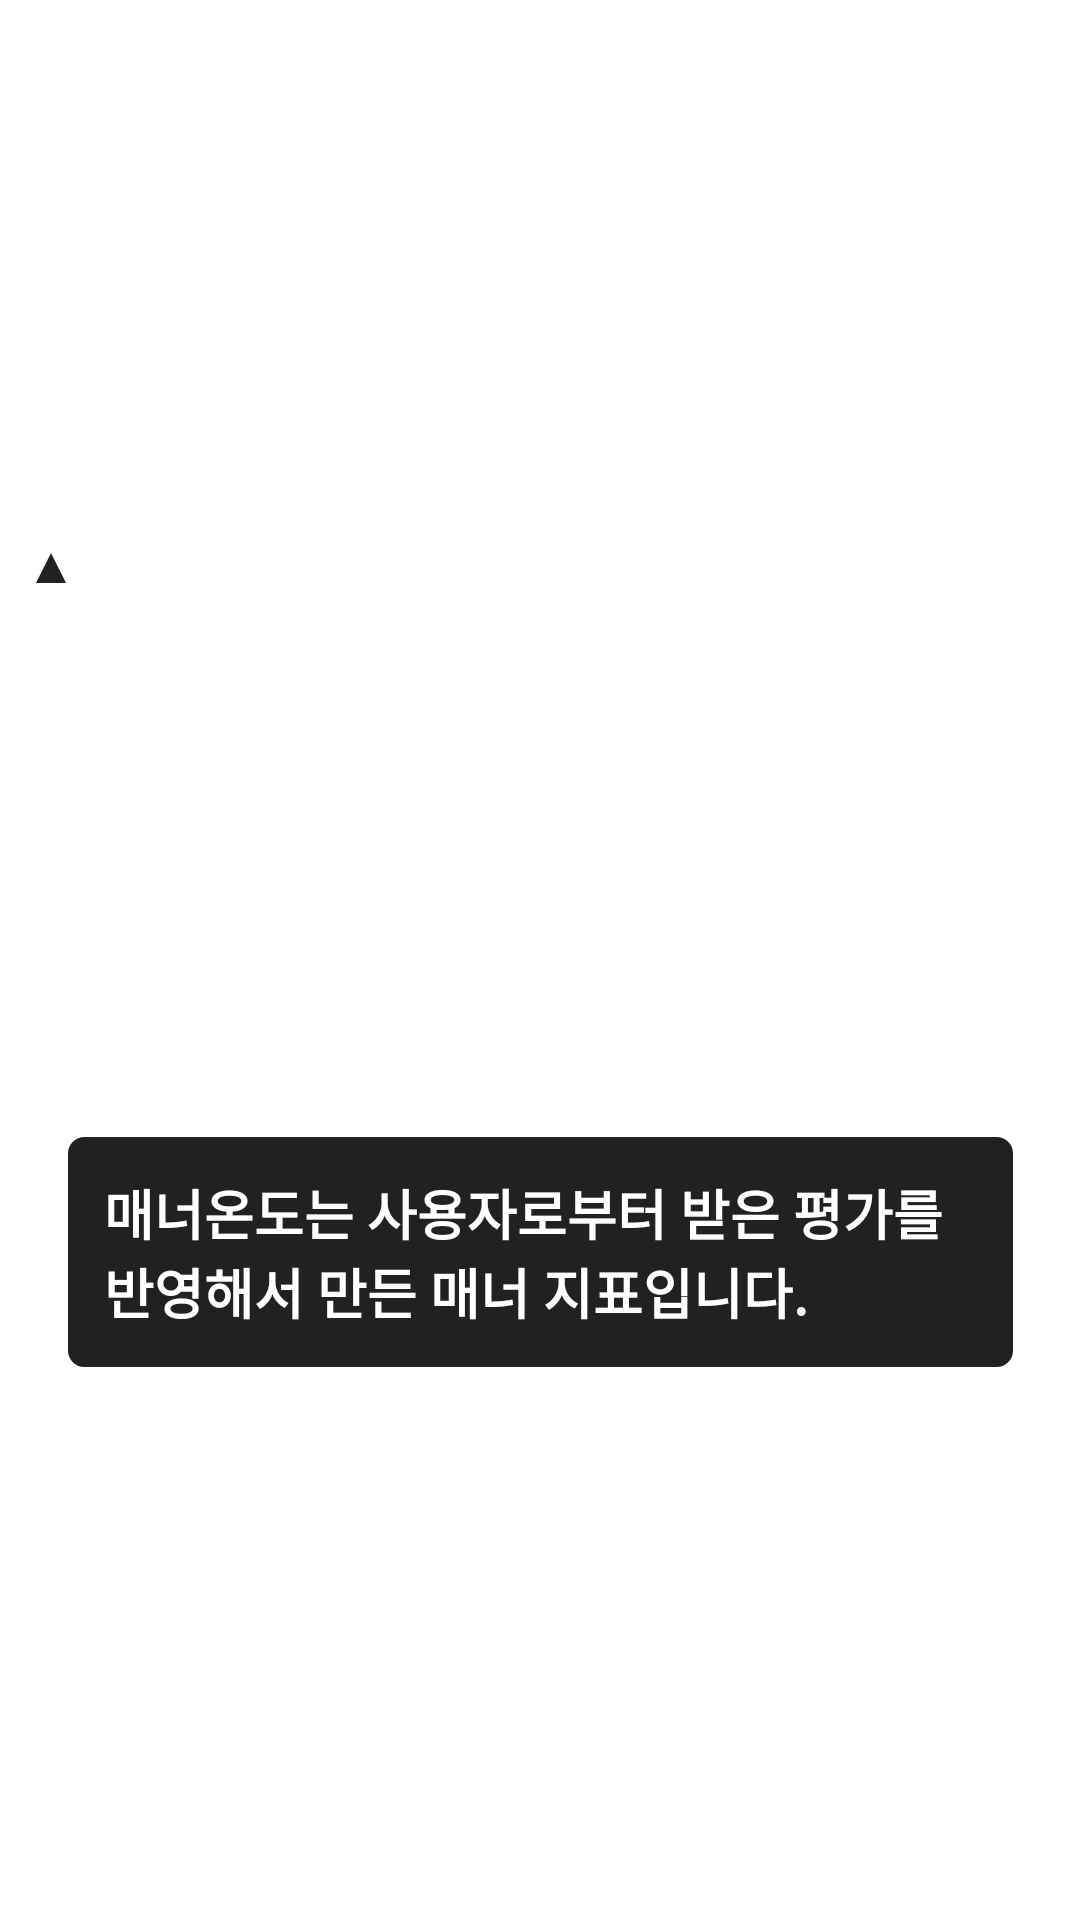

Screen size 1080 × 1920. Icon name, then its center in pixels as (x=x, y=y):
triangle: (x=51, y=568)
